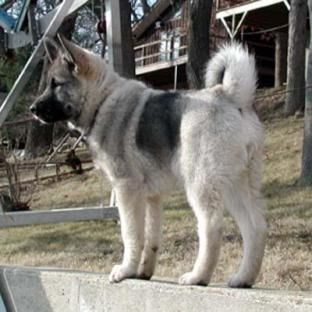Animal: (30, 35, 266, 287)
